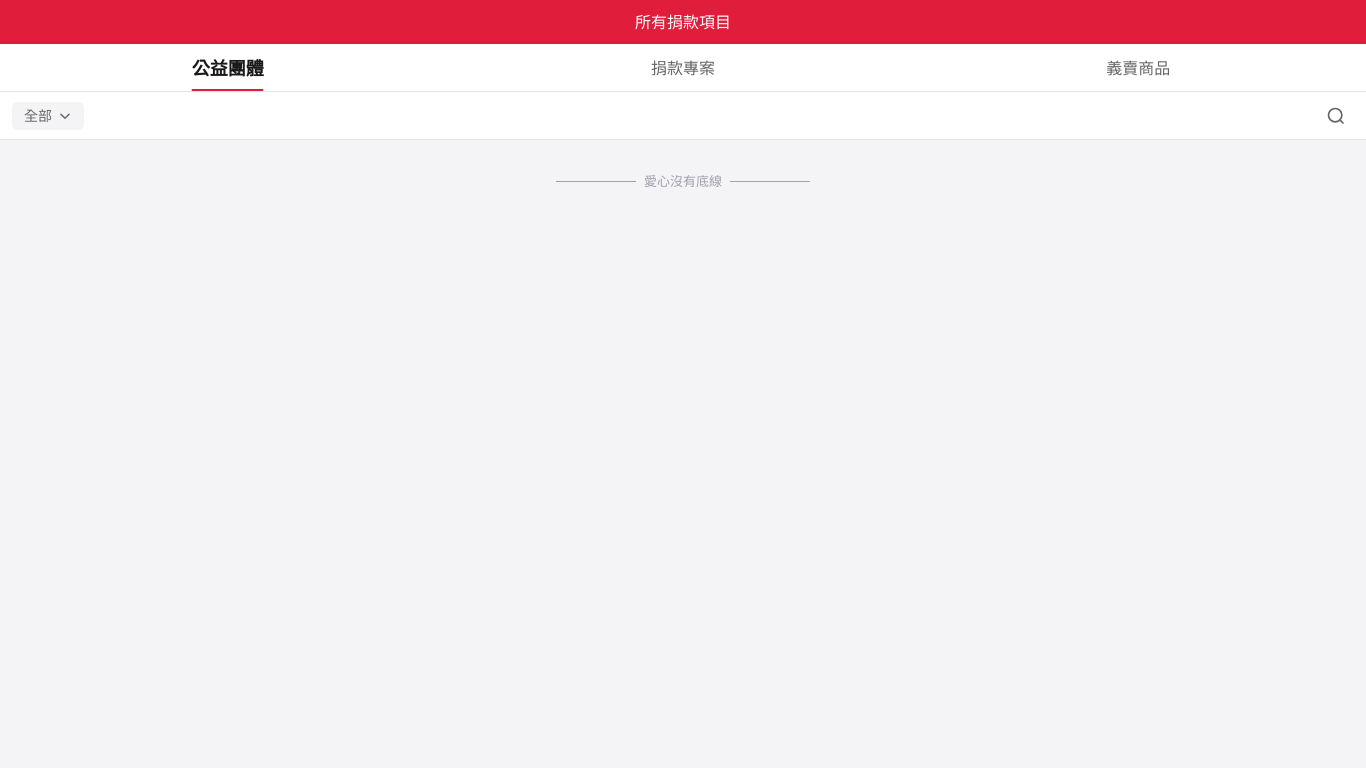
CharityListPage › 點類別按鈕開啟 CategoryDrawerDialog（AC 4）
The image size is (1366, 768).
Click the button "全部" at (48, 116), box left=12, top=102, right=84, bottom=130
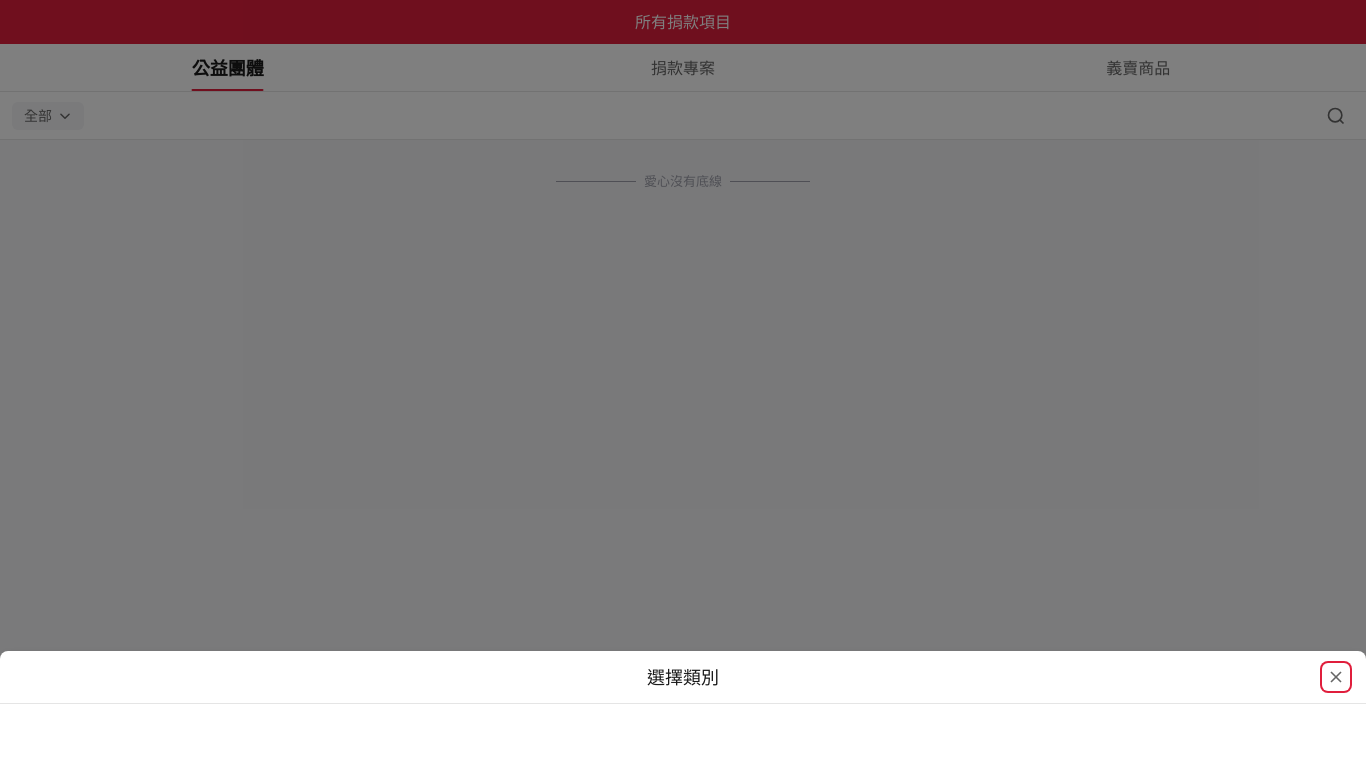
Check: the dialog is shown, box left=0, top=651, right=1365, bottom=767
